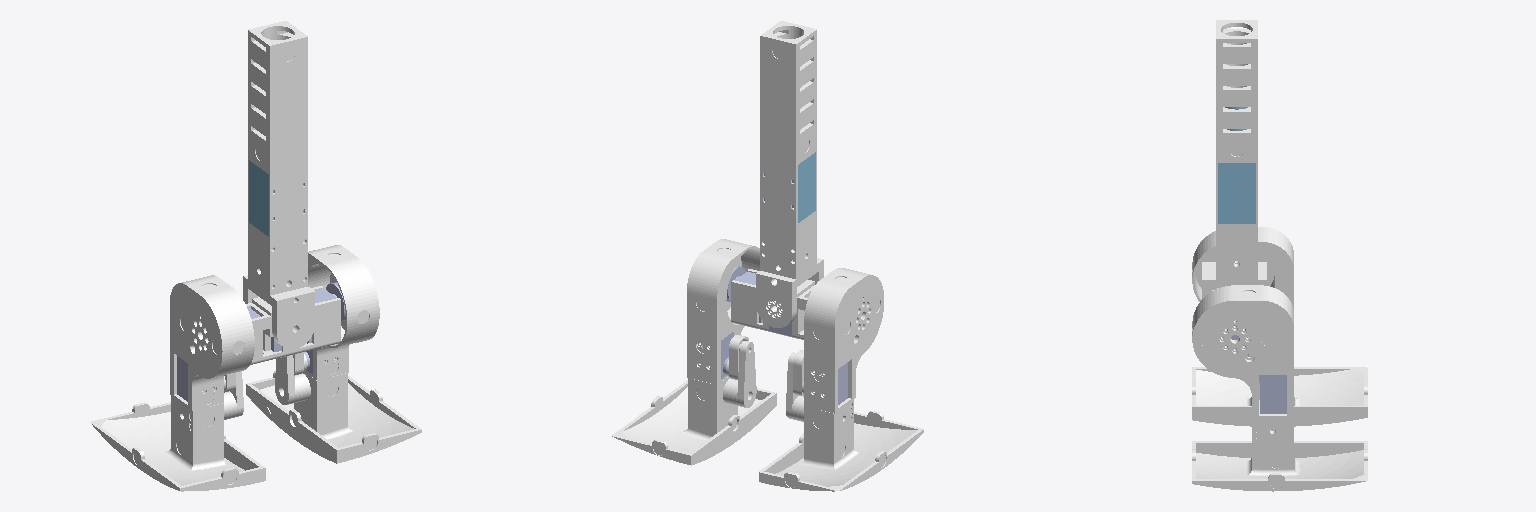
The robot description file, URDF, robot "pengu1_31":
<?xml version="1.0" ?>
<!-- Generated using onshape-to-robot -->
<!-- Onshape https://cad.onshape.com/documents/92ba184c0b15865297849245/w/789dbcff3171ede58dbe8577/e/33c14d568273b6f514d751c2 -->
<robot name="pengu1_31">
  <!-- Link leftthighmotor -->
  <link name="leftthighmotor">
    <inertial>
      <origin xyz="-0.0738509 0.0105397 -0.0475118" rpy="0 0 0"/>
      <mass value="0.207745"/>
      <inertia ixx="0.000560286" ixy="-1.37754e-05" ixz="2.42754e-05" iyy="0.000484471" iyz="6.34348e-05" izz="0.000126076"/>
    </inertial>
    <!-- Part easymotor -->
    <visual>
      <origin xyz="-0.08825 0.03128 -0.0885124" rpy="0 -2.718e-09 -1.5708"/>
      <geometry>
        <mesh filename="package://assets/easymotor.stl"/>
      </geometry>
      <material name="easymotor_material">
        <color rgba="0.796078 0.823529 0.937255 1"/>
      </material>
    </visual>
    <collision>
      <origin xyz="-0.08825 0.03128 -0.0885124" rpy="0 -2.718e-09 -1.5708"/>
      <geometry>
        <mesh filename="package://assets/easymotor.stl"/>
      </geometry>
    </collision>
    <!-- Part left_thigh -->
    <visual>
      <origin xyz="-0.0799204 -0.0680094 -0.0260901" rpy="1.5708 0 -3.14159"/>
      <geometry>
        <mesh filename="package://assets/left_thigh.stl"/>
      </geometry>
      <material name="left_thigh_material">
        <color rgba="1 1 1 1"/>
      </material>
    </visual>
    <collision>
      <origin xyz="-0.0799204 -0.0680094 -0.0260901" rpy="1.5708 0 -3.14159"/>
      <geometry>
        <mesh filename="package://assets/left_thigh.stl"/>
      </geometry>
    </collision>
  </link>
  <!-- Link easyaxis -->
  <link name="easyaxis">
    <inertial>
      <origin xyz="-0.0102715 0.000501152 -0.06925" rpy="0 0 0"/>
      <mass value="0.345637"/>
      <inertia ixx="0.000733205" ixy="6.32805e-07" ixz="-0" iyy="0.000773915" iyz="0" izz="0.000118176"/>
    </inertial>
    <!-- Part pengu2axis010 -->
    <visual>
      <origin xyz="0.0165 0.0195 -0.04875" rpy="1.5708 1.5708 0"/>
      <geometry>
        <mesh filename="package://assets/pengu2axis010.stl"/>
      </geometry>
      <material name="pengu2axis010_material">
        <color rgba="1 1 1 1"/>
      </material>
    </visual>
    <collision>
      <origin xyz="0.0165 0.0195 -0.04875" rpy="1.5708 1.5708 0"/>
      <geometry>
        <mesh filename="package://assets/pengu2axis010.stl"/>
      </geometry>
    </collision>
    <!-- Part easymotorwithconnector -->
    <visual>
      <origin xyz="0.011 -0.01425 -0.0965" rpy="-1.5708 -0 1.5708"/>
      <geometry>
        <mesh filename="package://assets/easymotorwithconnector.stl"/>
      </geometry>
      <material name="easymotorwithconnector_material">
        <color rgba="0.796078 0.823529 0.937255 1"/>
      </material>
    </visual>
    <collision>
      <origin xyz="0.011 -0.01425 -0.0965" rpy="-1.5708 -0 1.5708"/>
      <geometry>
        <mesh filename="package://assets/easymotorwithconnector.stl"/>
      </geometry>
    </collision>
    <!-- Part easymotorwithconnector_2 -->
    <visual>
      <origin xyz="0.011 0.01425 -0.042" rpy="1.5708 -0 -1.5708"/>
      <geometry>
        <mesh filename="package://assets/easymotorwithconnector.stl"/>
      </geometry>
      <material name="easymotorwithconnector_2_material">
        <color rgba="0.796078 0.823529 0.937255 1"/>
      </material>
    </visual>
    <collision>
      <origin xyz="0.011 0.01425 -0.042" rpy="1.5708 -0 -1.5708"/>
      <geometry>
        <mesh filename="package://assets/easymotorwithconnector.stl"/>
      </geometry>
    </collision>
    <!-- Part easymotor_2 -->
    <visual>
      <origin xyz="0.011 -0.01478 -0.0835" rpy="-2.718e-09 -1.5708 0"/>
      <geometry>
        <mesh filename="package://assets/easymotor.stl"/>
      </geometry>
      <material name="easymotor_2_material">
        <color rgba="0.796078 0.823529 0.937255 1"/>
      </material>
    </visual>
    <collision>
      <origin xyz="0.011 -0.01478 -0.0835" rpy="-2.718e-09 -1.5708 0"/>
      <geometry>
        <mesh filename="package://assets/easymotor.stl"/>
      </geometry>
    </collision>
  </link>
  <!-- Link rightthighmotor -->
  <link name="rightthighmotor">
    <inertial>
      <origin xyz="0.0336636 -0.0475118 -0.000899096" rpy="0 0 0"/>
      <mass value="0.207745"/>
      <inertia ixx="0.000484471" ixy="6.30739e-05" ixz="1.37137e-05" iyy="0.00012582" iyz="-2.42754e-05" izz="0.00056003"/>
    </inertial>
    <!-- Part easymotor_3 -->
    <visual>
      <origin xyz="0.02575 -0.0885124 0.0135" rpy="-1.5708 -0 -4.905e-09"/>
      <geometry>
        <mesh filename="package://assets/easymotor.stl"/>
      </geometry>
      <material name="easymotor_3_material">
        <color rgba="0.796078 0.823529 0.937255 1"/>
      </material>
    </visual>
    <collision>
      <origin xyz="0.02575 -0.0885124 0.0135" rpy="-1.5708 -0 -4.905e-09"/>
      <geometry>
        <mesh filename="package://assets/easymotor.stl"/>
      </geometry>
    </collision>
    <!-- Part right_thigh -->
    <visual>
      <origin xyz="-0 0 0.0155" rpy="4.905e-09 1.5708 0"/>
      <geometry>
        <mesh filename="package://assets/right_thigh.stl"/>
      </geometry>
      <material name="right_thigh_material">
        <color rgba="1 1 1 1"/>
      </material>
    </visual>
    <collision>
      <origin xyz="-0 0 0.0155" rpy="4.905e-09 1.5708 0"/>
      <geometry>
        <mesh filename="package://assets/right_thigh.stl"/>
      </geometry>
    </collision>
  </link>
  <!-- Link right_foot0080 -->
  <link name="right_foot0080">
    <inertial>
      <origin xyz="0.00309728 -0.00816562 -0.0519937" rpy="0 0 0"/>
      <mass value="0.149685"/>
      <inertia ixx="0.000166324" ixy="1.24008e-06" ixz="2.46733e-06" iyy="0.000359285" iyz="-8.22166e-06" izz="0.000426047"/>
    </inertial>
    <!-- Part right_foot0080 -->
    <visual>
      <origin xyz="-0.000764396 0.032498 0.0472219" rpy="-1.5708 -1.5708 0"/>
      <geometry>
        <mesh filename="package://assets/right_foot0080.stl"/>
      </geometry>
      <material name="right_foot0080_material">
        <color rgba="1 1 1 1"/>
      </material>
    </visual>
    <collision>
      <origin xyz="-0.000764396 0.032498 0.0472219" rpy="-1.5708 -1.5708 0"/>
      <geometry>
        <mesh filename="package://assets/right_foot0080.stl"/>
      </geometry>
    </collision>
  </link>
  <!-- Frame closing_crank3-R_2 (dummy link + fixed joint) -->
  <link name="closing_crank3-R_2">
    <origin xyz="0 0 0" rpy="0 -0 0"/>
    <inertial>
      <origin xyz="0 0 0" rpy="0 0 0"/>
      <mass value="1e-9"/>
      <inertia ixx="0" ixy="0" ixz="0" iyy="0" iyz="0" izz="0"/>
    </inertial>
  </link>
  <joint name="closing_crank3-R_2_frame" type="fixed">
    <origin xyz="-0.000764396 0.0222 -0.01511" rpy="1.5708 -0 0"/>
    <parent link="right_foot0080"/>
    <child link="closing_crank3-R_2"/>
    <axis xyz="0 0 0"/>
  </joint>
  <!-- Frame closing_crank3-R_2_z (dummy link + fixed joint) -->
  <link name="closing_crank3-R_2_z">
    <origin xyz="0 0 0" rpy="0 -0 0"/>
    <inertial>
      <origin xyz="0 0 0" rpy="0 0 0"/>
      <mass value="1e-9"/>
      <inertia ixx="0" ixy="0" ixz="0" iyy="0" iyz="0" izz="0"/>
    </inertial>
  </link>
  <joint name="closing_crank3-R_2_z_frame" type="fixed">
    <origin xyz="-0.000764396 -0.0778 -0.01511" rpy="1.5708 -0 0"/>
    <parent link="right_foot0080"/>
    <child link="closing_crank3-R_2_z"/>
    <axis xyz="0 0 0"/>
  </joint>
  <!-- Joint from rightthighmotor to right_foot0080 -->
  <joint name="slider-R" type="prismatic">
    <origin xyz="0.04054 -0.0916416 -0.000350003" rpy="-1.5708 -0 -4.905e-09"/>
    <parent link="rightthighmotor"/>
    <child link="right_foot0080"/>
    <axis xyz="0 0 1"/>
    <limit effort="10" velocity="10" lower="-0.0498709" upper="0.000129139"/>
  </joint>
  <!-- Link crank_circle -->
  <link name="crank_circle">
    <inertial>
      <origin xyz="8.03408e-05 0.010368 -0.0087438" rpy="0 0 0"/>
      <mass value="0.0199581"/>
      <inertia ixx="3.81655e-06" ixy="-1.8264e-08" ixz="5.55e-10" iyy="1.45975e-06" iyz="7.1615e-08" izz="4.66294e-06"/>
    </inertial>
    <!-- Part crank_circle -->
    <visual>
      <origin xyz="-0 0 -0.009" rpy="0.00774877 1.5708 0"/>
      <geometry>
        <mesh filename="package://assets/crank_circle.stl"/>
      </geometry>
      <material name="crank_circle_material">
        <color rgba="1 1 1 1"/>
      </material>
    </visual>
    <collision>
      <origin xyz="-0 0 -0.009" rpy="0.00774877 1.5708 0"/>
      <geometry>
        <mesh filename="package://assets/crank_circle.stl"/>
      </geometry>
    </collision>
  </link>
  <!-- Link crank_link -->
  <link name="crank_link">
    <inertial>
      <origin xyz="-0.0398252 -1.59698e-06 -0.0065882" rpy="0 0 0"/>
      <mass value="0.0249476"/>
      <inertia ixx="2.34462e-06" ixy="-3.66e-10" ixz="1.45213e-06" iyy="1.14674e-05" iyz="5.8e-11" izz="1.17005e-05"/>
    </inertial>
    <!-- Part crank_link -->
    <visual>
      <origin xyz="0 0 -0.00705" rpy="1.57076 1.5708 0"/>
      <geometry>
        <mesh filename="package://assets/crank_link.stl"/>
      </geometry>
      <material name="crank_link_material">
        <color rgba="1 1 1 1"/>
      </material>
    </visual>
    <collision>
      <origin xyz="0 0 -0.00705" rpy="1.57076 1.5708 0"/>
      <geometry>
        <mesh filename="package://assets/crank_link.stl"/>
      </geometry>
    </collision>
  </link>
  <!-- Frame closing_crank3-R_1 (dummy link + fixed joint) -->
  <link name="closing_crank3-R_1">
    <origin xyz="0 0 0" rpy="0 -0 0"/>
    <inertial>
      <origin xyz="0 0 0" rpy="0 0 0"/>
      <mass value="1e-9"/>
      <inertia ixx="0" ixy="0" ixz="0" iyy="0" iyz="0" izz="0"/>
    </inertial>
  </link>
  <joint name="closing_crank3-R_1_frame" type="fixed">
    <origin xyz="-0.05424 -2.17501e-06 0.01095" rpy="0 0 4.00998e-05"/>
    <parent link="crank_link"/>
    <child link="closing_crank3-R_1"/>
    <axis xyz="0 0 0"/>
  </joint>
  <!-- Frame closing_crank3-R_1_z (dummy link + fixed joint) -->
  <link name="closing_crank3-R_1_z">
    <origin xyz="0 0 0" rpy="0 -0 0"/>
    <inertial>
      <origin xyz="0 0 0" rpy="0 0 0"/>
      <mass value="1e-9"/>
      <inertia ixx="0" ixy="0" ixz="0" iyy="0" iyz="0" izz="0"/>
    </inertial>
  </link>
  <joint name="closing_crank3-R_1_z_frame" type="fixed">
    <origin xyz="-0.05424 -2.17501e-06 0.11095" rpy="0 0 4.00998e-05"/>
    <parent link="crank_link"/>
    <child link="closing_crank3-R_1_z"/>
    <axis xyz="0 0 0"/>
  </joint>
  <!-- Joint from crank_circle to crank_link -->
  <joint name="crank1-R" type="revolute">
    <origin xyz="0.000193717 0.0249992 -0.009" rpy="0 -0 1.56305"/>
    <parent link="crank_circle"/>
    <child link="crank_link"/>
    <axis xyz="0 0 1"/>
    <limit effort="10" velocity="10" lower="-3.141592653589793" upper="3.141592653589793"/>
  </joint>
  <!-- Joint from rightthighmotor to crank_circle -->
  <joint name="crank2_R" type="revolute">
    <origin xyz="0.04 -0.0775124 -0.0245" rpy="0 -0 -4.905e-09"/>
    <parent link="rightthighmotor"/>
    <child link="crank_circle"/>
    <axis xyz="0 0 1"/>
    <limit effort="10" velocity="10" lower="-3.141592653589793" upper="3.141592653589793"/>
  </joint>
  <!-- Joint from easyaxis to rightthighmotor -->
  <joint name="hip-R" type="revolute">
    <origin xyz="-0 0 -0.144" rpy="-3.14159 -0 1.5708"/>
    <parent link="easyaxis"/>
    <child link="rightthighmotor"/>
    <axis xyz="0 0 1"/>
    <limit effort="10" velocity="10" lower="-3.141592653589793" upper="3.141592653589793"/>
  </joint>
  <!-- Link easytorso -->
  <link name="easytorso">
    <inertial>
      <origin xyz="1.103e-09 -0.16985 0.0214526" rpy="0 0 0"/>
      <mass value="1.12208"/>
      <inertia ixx="0.00513329" ixy="-1.45e-10" ixz="1.4e-11" iyy="0.000313163" iyz="-3.05676e-05" izz="0.00511109"/>
    </inertial>
    <!-- Part part_1 -->
    <visual>
      <origin xyz="-0.0225 -0.17175 0.0412769" rpy="1.5708 0 1.5708"/>
      <geometry>
        <mesh filename="package://assets/part_1.stl"/>
      </geometry>
      <material name="part_1_material">
        <color rgba="0.615686 0.811765 0.929412 1"/>
      </material>
    </visual>
    <collision>
      <origin xyz="-0.0225 -0.17175 0.0412769" rpy="1.5708 0 1.5708"/>
      <geometry>
        <mesh filename="package://assets/part_1.stl"/>
      </geometry>
    </collision>
    <!-- Part part_1_2 -->
    <visual>
      <origin xyz="-0 -0.23675 0.0212769" rpy="1.5708 0 3.14159"/>
      <geometry>
        <mesh filename="package://assets/part_1__2.stl"/>
      </geometry>
      <material name="part_1_2_material">
        <color rgba="0.615686 0.811765 0.929412 1"/>
      </material>
    </visual>
    <collision>
      <origin xyz="-0 -0.23675 0.0212769" rpy="1.5708 0 3.14159"/>
      <geometry>
        <mesh filename="package://assets/part_1__2.stl"/>
      </geometry>
    </collision>
    <!-- Part part_1_3 -->
    <visual>
      <origin xyz="0.0225 -0.10175 0.0412769" rpy="1.5708 -0 -1.5708"/>
      <geometry>
        <mesh filename="package://assets/part_1.stl"/>
      </geometry>
      <material name="part_1_3_material">
        <color rgba="0.615686 0.811765 0.929412 1"/>
      </material>
    </visual>
    <collision>
      <origin xyz="0.0225 -0.10175 0.0412769" rpy="1.5708 -0 -1.5708"/>
      <geometry>
        <mesh filename="package://assets/part_1.stl"/>
      </geometry>
    </collision>
    <!-- Part torso -->
    <visual>
      <origin xyz="-0.0225 -0.31675 -0.00122307" rpy="-1.5708 -0 0"/>
      <geometry>
        <mesh filename="package://assets/torso.stl"/>
      </geometry>
      <material name="torso_material">
        <color rgba="1 1 1 1"/>
      </material>
    </visual>
    <collision>
      <origin xyz="-0.0225 -0.31675 -0.00122307" rpy="-1.5708 -0 0"/>
      <geometry>
        <mesh filename="package://assets/torso.stl"/>
      </geometry>
    </collision>
    <!-- Part bracketmotorside -->
    <visual>
      <origin xyz="0.0225 -0.02675 -0.01" rpy="-1.5708 0 3.14159"/>
      <geometry>
        <mesh filename="package://assets/bracketmotorside.stl"/>
      </geometry>
      <material name="bracketmotorside_material">
        <color rgba="1 1 1 1"/>
      </material>
    </visual>
    <collision>
      <origin xyz="0.0225 -0.02675 -0.01" rpy="-1.5708 0 3.14159"/>
      <geometry>
        <mesh filename="package://assets/bracketmotorside.stl"/>
      </geometry>
    </collision>
    <!-- Part bracketbearingside -->
    <visual>
      <origin xyz="0.0225 -0.0267252 -0.01" rpy="-1.5708 0 3.14159"/>
      <geometry>
        <mesh filename="package://assets/bracketbearingside.stl"/>
      </geometry>
      <material name="bracketbearingside_material">
        <color rgba="1 1 1 1"/>
      </material>
    </visual>
    <collision>
      <origin xyz="0.0225 -0.0267252 -0.01" rpy="-1.5708 0 3.14159"/>
      <geometry>
        <mesh filename="package://assets/bracketbearingside.stl"/>
      </geometry>
    </collision>
  </link>
  <!-- Joint from easyaxis to easytorso -->
  <joint name="torso" type="revolute">
    <origin xyz="6.3e-11 0.02322 -0.06925" rpy="1.5708 -1.5708 0"/>
    <parent link="easyaxis"/>
    <child link="easytorso"/>
    <axis xyz="0 0 1"/>
    <limit effort="10" velocity="10" lower="-3.141592653589793" upper="3.141592653589793"/>
  </joint>
  <!-- Joint from leftthighmotor to easyaxis -->
  <joint name="hip-L" type="revolute">
    <origin xyz="-0.06925 -0.02322 0" rpy="0 -1.5708 0"/>
    <parent link="leftthighmotor"/>
    <child link="easyaxis"/>
    <axis xyz="0 0 1"/>
    <limit effort="10" velocity="10" lower="-3.141592653589793" upper="3.141592653589793"/>
  </joint>
  <!-- Link right_foot0080___fillet13 -->
  <link name="right_foot0080___fillet13">
    <inertial>
      <origin xyz="0.00809087 -0.00363118 -0.0521227" rpy="0 0 0"/>
      <mass value="0.149685"/>
      <inertia ixx="0.000359248" ixy="1.24152e-06" ixz="8.21368e-06" iyy="0.000166321" iyz="-2.46625e-06" izz="0.000426014"/>
    </inertial>
    <!-- Part right_foot0080___fillet13 -->
    <visual>
      <origin xyz="-0.04257 0.00023 0.047094" rpy="3.14159 -1.5708 0"/>
      <geometry>
        <mesh filename="package://assets/right_foot0080___fillet13.stl"/>
      </geometry>
      <material name="right_foot0080___fillet13_material">
        <color rgba="1 1 1 1"/>
      </material>
    </visual>
    <collision>
      <origin xyz="-0.04257 0.00023 0.047094" rpy="3.14159 -1.5708 0"/>
      <geometry>
        <mesh filename="package://assets/right_foot0080___fillet13.stl"/>
      </geometry>
    </collision>
  </link>
  <!-- Frame closing_crank3-L_2 (dummy link + fixed joint) -->
  <link name="closing_crank3-L_2">
    <origin xyz="0 0 0" rpy="0 -0 0"/>
    <inertial>
      <origin xyz="0 0 0" rpy="0 0 0"/>
      <mass value="1e-9"/>
      <inertia ixx="0" ixy="0" ixz="0" iyy="0" iyz="0" izz="0"/>
    </inertial>
  </link>
  <joint name="closing_crank3-L_2_frame" type="fixed">
    <origin xyz="-0.0222673 0.00023 -0.0152379" rpy="3.14159 -1.5708 0"/>
    <parent link="right_foot0080___fillet13"/>
    <child link="closing_crank3-L_2"/>
    <axis xyz="0 0 0"/>
  </joint>
  <!-- Frame closing_crank3-L_2_z (dummy link + fixed joint) -->
  <link name="closing_crank3-L_2_z">
    <origin xyz="0 0 0" rpy="0 -0 0"/>
    <inertial>
      <origin xyz="0 0 0" rpy="0 0 0"/>
      <mass value="1e-9"/>
      <inertia ixx="0" ixy="0" ixz="0" iyy="0" iyz="0" izz="0"/>
    </inertial>
  </link>
  <joint name="closing_crank3-L_2_z_frame" type="fixed">
    <origin xyz="0.0777327 0.00023 -0.0152379" rpy="3.14159 -1.5708 0"/>
    <parent link="right_foot0080___fillet13"/>
    <child link="closing_crank3-L_2_z"/>
    <axis xyz="0 0 0"/>
  </joint>
  <!-- Joint from leftthighmotor to right_foot0080___fillet13 -->
  <joint name="slider-L" type="prismatic">
    <origin xyz="-0.0744673 0.01678 -0.0915124" rpy="2.718e-09 0 -3.14159"/>
    <parent link="leftthighmotor"/>
    <child link="right_foot0080___fillet13"/>
    <axis xyz="0 0 1"/>
    <limit effort="10" velocity="10" lower="-0.0498721" upper="0.000127876"/>
  </joint>
  <!-- Link crank_circle_2 -->
  <link name="crank_circle_2">
    <inertial>
      <origin xyz="0.0103683 -0 -0.0087438" rpy="0 0 0"/>
      <mass value="0.0199581"/>
      <inertia ixx="1.45961e-06" ixy="0" ixz="7.1617e-08" iyy="3.81669e-06" iyz="-0" izz="4.66294e-06"/>
    </inertial>
    <!-- Part crank_circle_2 -->
    <visual>
      <origin xyz="0 -0 -0.009" rpy="1.5708 1.5708 0"/>
      <geometry>
        <mesh filename="package://assets/crank_circle.stl"/>
      </geometry>
      <material name="crank_circle_2_material">
        <color rgba="1 1 1 1"/>
      </material>
    </visual>
    <collision>
      <origin xyz="0 -0 -0.009" rpy="1.5708 1.5708 0"/>
      <geometry>
        <mesh filename="package://assets/crank_circle.stl"/>
      </geometry>
    </collision>
  </link>
  <!-- Link crank_link_2 -->
  <link name="crank_link_2">
    <inertial>
      <origin xyz="-0.0398237 -0.000352435 -0.0065882" rpy="0 0 0"/>
      <mass value="0.0249476"/>
      <inertia ixx="2.34533e-06" ixy="-8.073e-08" ixz="1.45208e-06" iyy="1.14667e-05" iyz="1.2851e-08" izz="1.17005e-05"/>
    </inertial>
    <!-- Part crank_link_2 -->
    <visual>
      <origin xyz="-0 0 -0.00705" rpy="1.56195 1.5708 0"/>
      <geometry>
        <mesh filename="package://assets/crank_link.stl"/>
      </geometry>
      <material name="crank_link_2_material">
        <color rgba="1 1 1 1"/>
      </material>
    </visual>
    <collision>
      <origin xyz="-0 0 -0.00705" rpy="1.56195 1.5708 0"/>
      <geometry>
        <mesh filename="package://assets/crank_link.stl"/>
      </geometry>
    </collision>
  </link>
  <!-- Frame closing_crank3-L_1 (dummy link + fixed joint) -->
  <link name="closing_crank3-L_1">
    <origin xyz="0 0 0" rpy="0 -0 0"/>
    <inertial>
      <origin xyz="0 0 0" rpy="0 0 0"/>
      <mass value="1e-9"/>
      <inertia ixx="0" ixy="0" ixz="0" iyy="0" iyz="0" izz="0"/>
    </inertial>
  </link>
  <joint name="closing_crank3-L_1_frame" type="fixed">
    <origin xyz="-0.0542379 -0.00048 0.01095" rpy="0 0 0.00884967"/>
    <parent link="crank_link_2"/>
    <child link="closing_crank3-L_1"/>
    <axis xyz="0 0 0"/>
  </joint>
  <!-- Frame closing_crank3-L_1_z (dummy link + fixed joint) -->
  <link name="closing_crank3-L_1_z">
    <origin xyz="0 0 0" rpy="0 -0 0"/>
    <inertial>
      <origin xyz="0 0 0" rpy="0 0 0"/>
      <mass value="1e-9"/>
      <inertia ixx="0" ixy="0" ixz="0" iyy="0" iyz="0" izz="0"/>
    </inertial>
  </link>
  <joint name="closing_crank3-L_1_z_frame" type="fixed">
    <origin xyz="-0.0542379 -0.00048 0.11095" rpy="0 0 0.00884967"/>
    <parent link="crank_link_2"/>
    <child link="closing_crank3-L_1_z"/>
    <axis xyz="0 0 0"/>
  </joint>
  <!-- Joint from crank_circle_2 to crank_link_2 -->
  <joint name="crank2-L" type="revolute">
    <origin xyz="0.025 0 -0.009" rpy="-0 0 -0"/>
    <parent link="crank_circle_2"/>
    <child link="crank_link_2"/>
    <axis xyz="0 0 1"/>
    <limit effort="10" velocity="10" lower="-3.141592653589793" upper="3.141592653589793"/>
  </joint>
  <!-- Joint from leftthighmotor to crank_circle_2 -->
  <joint name="crank1-L" type="revolute">
    <origin xyz="-0.05025 0.01703 -0.0775124" rpy="0 -1.5708 0"/>
    <parent link="leftthighmotor"/>
    <child link="crank_circle_2"/>
    <axis xyz="0 0 1"/>
    <limit effort="10" velocity="10" lower="-3.141592653589793" upper="3.141592653589793"/>
  </joint>
</robot>

--- Facts derived from the render (not from the file) ---
Views: 3 orthographic renders of the robot side by side, from view 1: azimuth 30°, elevation 25°; view 2: azimuth 150°, elevation 25°; view 3: azimuth 270°, elevation 25°.
Robot: pengu1_31 — 18 links, 17 joints (7 revolute, 2 prismatic, 8 fixed); root link leftthighmotor; default pose: every joint at zero.
Links seen in each view (by area): view 1: easytorso, right_foot0080___fillet13, leftthighmotor, right_foot0080, rightthighmotor, easyaxis, crank_link, crank_link_2; view 2: easytorso, leftthighmotor, right_foot0080___fillet13, right_foot0080, rightthighmotor, easyaxis, crank_link, crank_link_2; view 3: easytorso, rightthighmotor, right_foot0080, right_foot0080___fillet13, leftthighmotor.
Boxes of the visible links, x1,y1,x2,y2 form: easytorso: (243,21,314,349); right_foot0080___fillet13: (90,396,265,491); leftthighmotor: (170,275,254,410); right_foot0080: (246,371,421,463); rightthighmotor: (304,245,379,379); easyaxis: (246,282,345,364); crank_link: (275,355,310,404); crank_link_2: (224,371,243,419); easytorso: (756,21,823,327); leftthighmotor: (804,268,883,413); right_foot0080___fillet13: (759,400,923,491); right_foot0080: (612,377,776,465); rightthighmotor: (687,239,759,384); easyaxis: (726,265,814,339); crank_link: (723,341,756,407); crank_link_2: (786,352,803,421); easytorso: (1202,20,1266,298); rightthighmotor: (1192,285,1293,429); right_foot0080: (1192,418,1367,491); right_foot0080___fillet13: (1192,367,1367,426); leftthighmotor: (1192,227,1293,307).
Bounding box of the posed robot: 0.2838 × 0.185 × 0.4812 m (x, y, z).
20 mesh visuals loaded from 14 distinct referenced files (14 binary STL).
